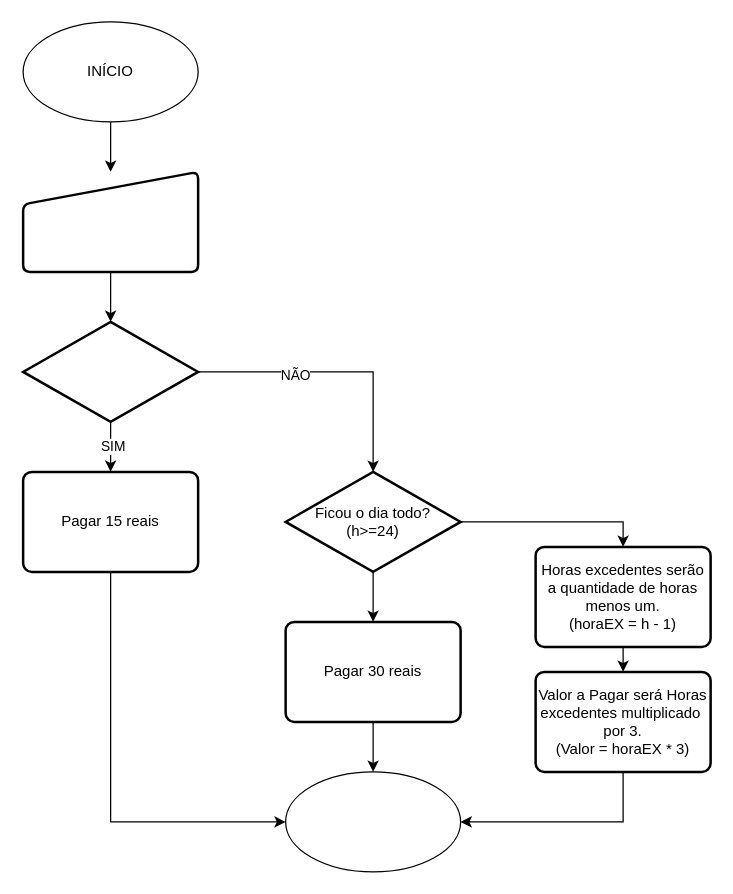
Image size: 733x894. Some labels were removed from this diagram. Each missing label, with the centre of its shape:
"Quantas horas ficou no estacionamento?" = h: [110,221]
Ficou até uma hora? (h<=1): [110,371]
TÉRMINO: [372,821]
